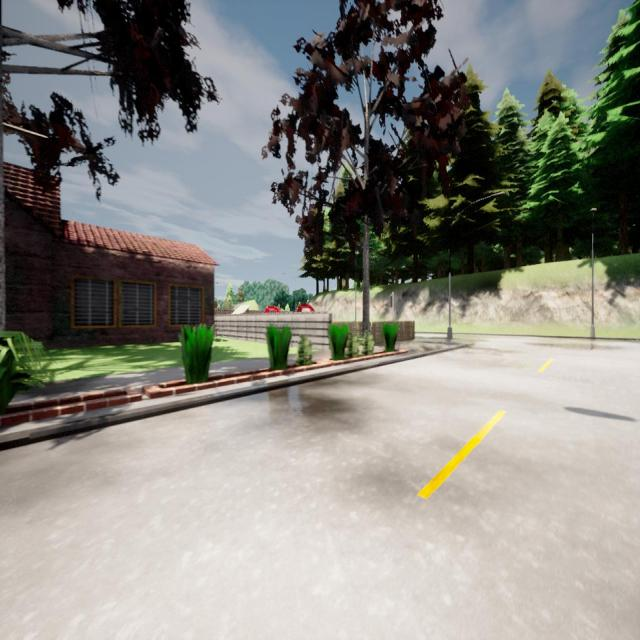traffic_light: (388, 296, 392, 307)
